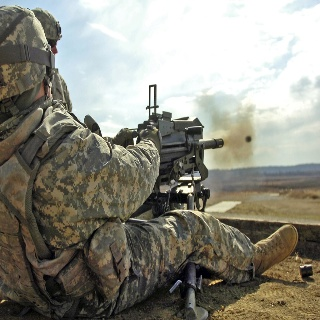rifle: (120, 83, 229, 200)
